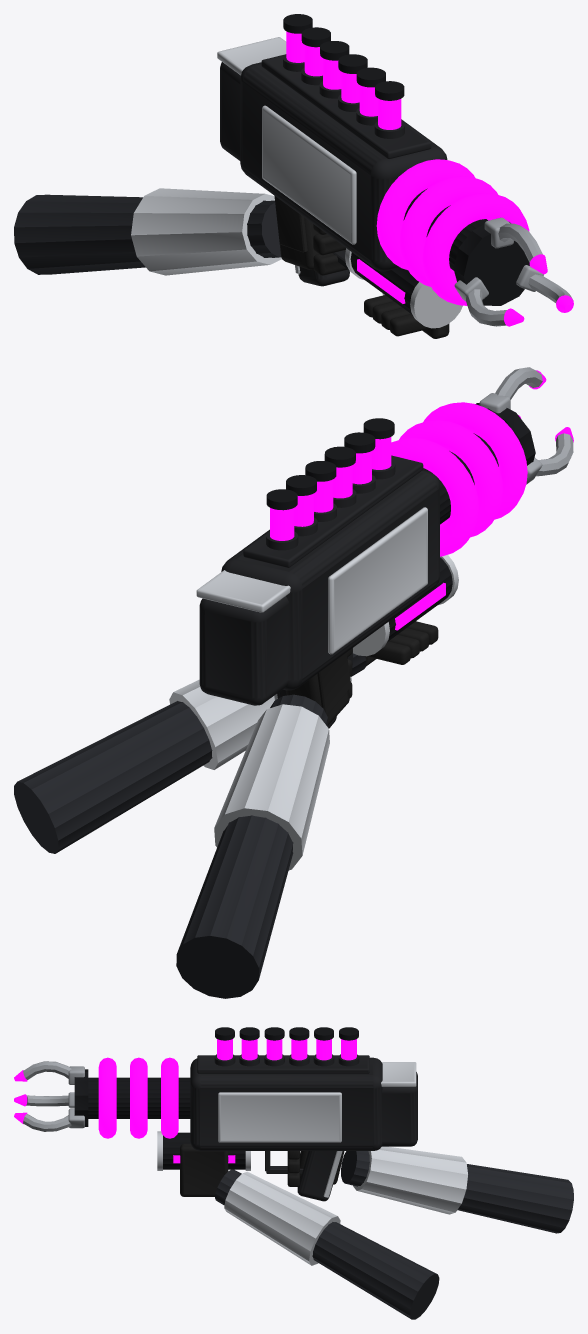
The model's file is gun_arc.glb.
3 views of the same model, one above another, from view 1: azimuth 30°, elevation 25°; view 2: azimuth 150°, elevation 25°; view 3: azimuth 270°, elevation 25° (orthographic). The views are drawn at different scales.
Parts seen in each view (by area): view 1: Body, Forearm_R, Armor_Plates, Gauntlet_R, Core, Coil_3, Coil_2, Coil_1, Glove_R, Glove_L, Electrode_1, Electrode_3 (+8 smaller); view 2: Body, Forearm_L, Forearm_R, Armor_Plates, Gauntlet_R, Core, Coil_1, Gauntlet_L, Coil_2, Coil_3, Glove_R, Glove_L (+2 smaller); view 3: Body, Armor_Plates, Forearm_L, Forearm_R, Gauntlet_R, Gauntlet_L, Core, Glove_L, Coil_3, Coil_1, Coil_2, Electrode_2 (+3 smaller).
Boxes of the visible parts, bbox=[...] form: Body: bbox=[220, 54, 447, 286]; Forearm_R: bbox=[14, 194, 280, 274]; Armor_Plates: bbox=[217, 37, 462, 328]; Gauntlet_R: bbox=[131, 188, 281, 275]; Core: bbox=[283, 14, 529, 314]; Coil_3: bbox=[422, 193, 529, 305]; Coil_2: bbox=[399, 176, 498, 286]; Coil_1: bbox=[376, 159, 475, 269]; Glove_R: bbox=[274, 196, 347, 275]; Glove_L: bbox=[364, 295, 449, 338]; Electrode_1: bbox=[484, 217, 542, 262]; Electrode_3: bbox=[454, 277, 506, 326]; Body: bbox=[199, 455, 439, 728]; Forearm_L: bbox=[14, 653, 366, 853]; Forearm_R: bbox=[176, 694, 327, 998]; Armor_Plates: bbox=[196, 507, 458, 700]; Gauntlet_R: bbox=[214, 704, 329, 870]; Core: bbox=[266, 403, 535, 641]; Coil_1: bbox=[391, 438, 478, 556]; Gauntlet_L: bbox=[169, 676, 351, 769]; Coil_2: bbox=[399, 420, 503, 537]; Coil_3: bbox=[423, 402, 527, 519]; Glove_R: bbox=[286, 648, 352, 725]; Glove_L: bbox=[365, 621, 438, 665]; Body: bbox=[190, 1054, 417, 1201]; Armor_Plates: bbox=[157, 1062, 416, 1197]; Forearm_L: bbox=[215, 1169, 439, 1319]; Forearm_R: bbox=[341, 1151, 573, 1233]; Gauntlet_R: bbox=[353, 1146, 467, 1214]; Gauntlet_L: bbox=[224, 1171, 340, 1265]; Core: bbox=[74, 1027, 358, 1169]; Glove_L: bbox=[180, 1143, 228, 1196]; Coil_3: bbox=[98, 1057, 116, 1138]; Coil_1: bbox=[161, 1057, 178, 1138]; Coil_2: bbox=[130, 1057, 147, 1138]; Electrode_2: bbox=[23, 1108, 84, 1131].
Bounding box in the file's own units: 0.3816 × 0.3697 × 0.8127.
